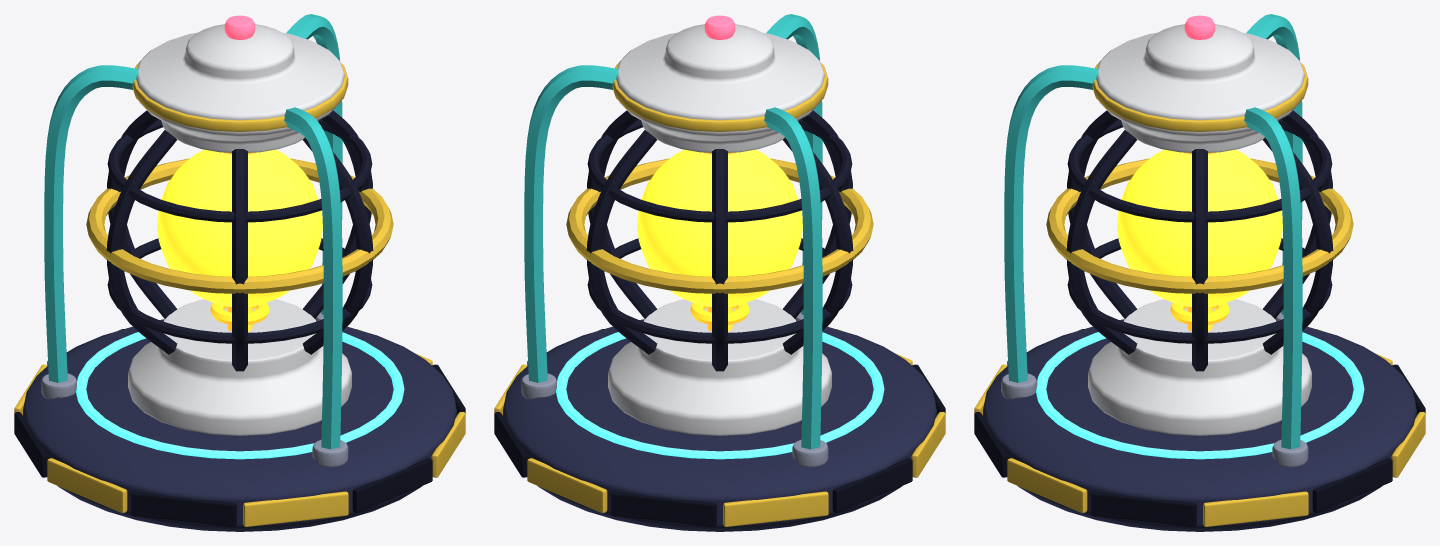
File: reactor_core.glb
3 renders of one model, left to right at view 1: azimuth 30°, elevation 25°; view 2: azimuth 150°, elevation 25°; view 3: azimuth 270°, elevation 25°, orthographic.
Visible parts, largest first — view 1: Body, Glow; view 2: Body, Glow; view 3: Body, Glow.
Boxes of the visible parts, x1,y1,x2,y2 form: Body: [14, 14, 465, 531]; Glow: [157, 149, 322, 331]; Body: [494, 14, 945, 531]; Glow: [637, 149, 802, 331]; Body: [974, 14, 1425, 531]; Glow: [1117, 149, 1282, 331].
Bounding box in the file's own units: 2.5 × 2.6 × 2.5.
